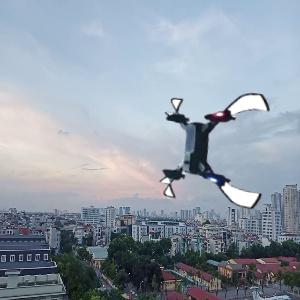drone: (158, 88, 277, 207)
